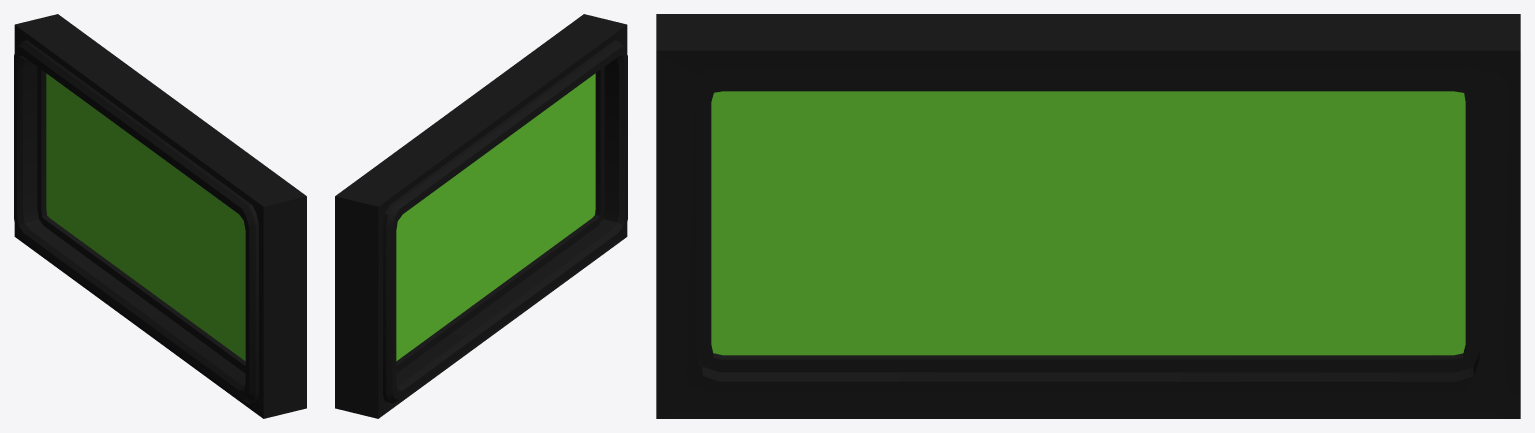
Rendered from CorridorWindow.fbx.
3 renders of one model, left to right at view 1: azimuth 30°, elevation 25°; view 2: azimuth 150°, elevation 25°; view 3: azimuth 270°, elevation 25°, orthographic. The views are drawn at different scales.
Parts seen in each view (by area): view 1: window001, Window003; view 2: window001, Window003; view 3: Window003, window001.
Boxes of the visible parts, x1,y1,x2,y2 form: window001: (14,14,306,418); Window003: (46,73,245,360); window001: (335,14,627,418); Window003: (396,73,595,360); Window003: (711,91,1465,355); window001: (656,14,1520,418).
Bounding box in the file's own units: 14 × 118 × 55.52.
